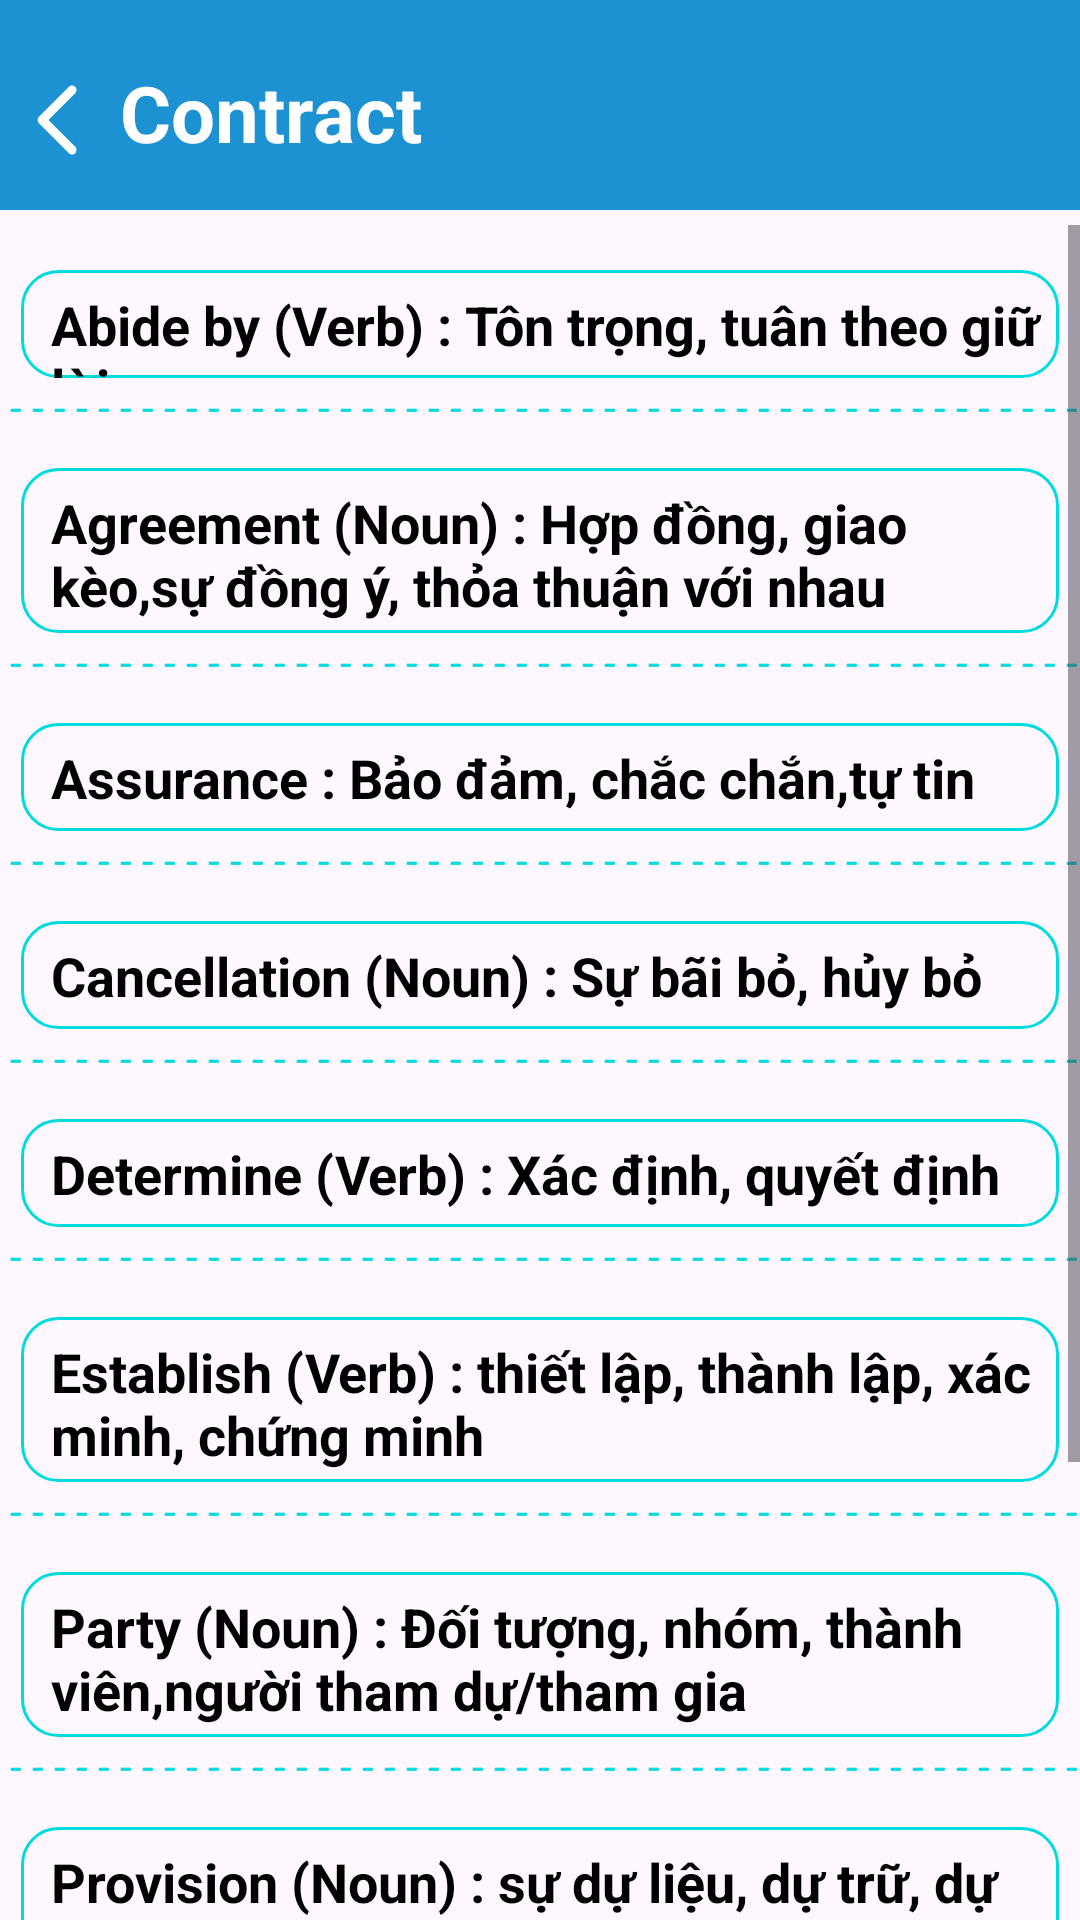

Screen size 1080×1920. Icon name, then its center in pixels as [x,y]:
angle left full: [57,120]
